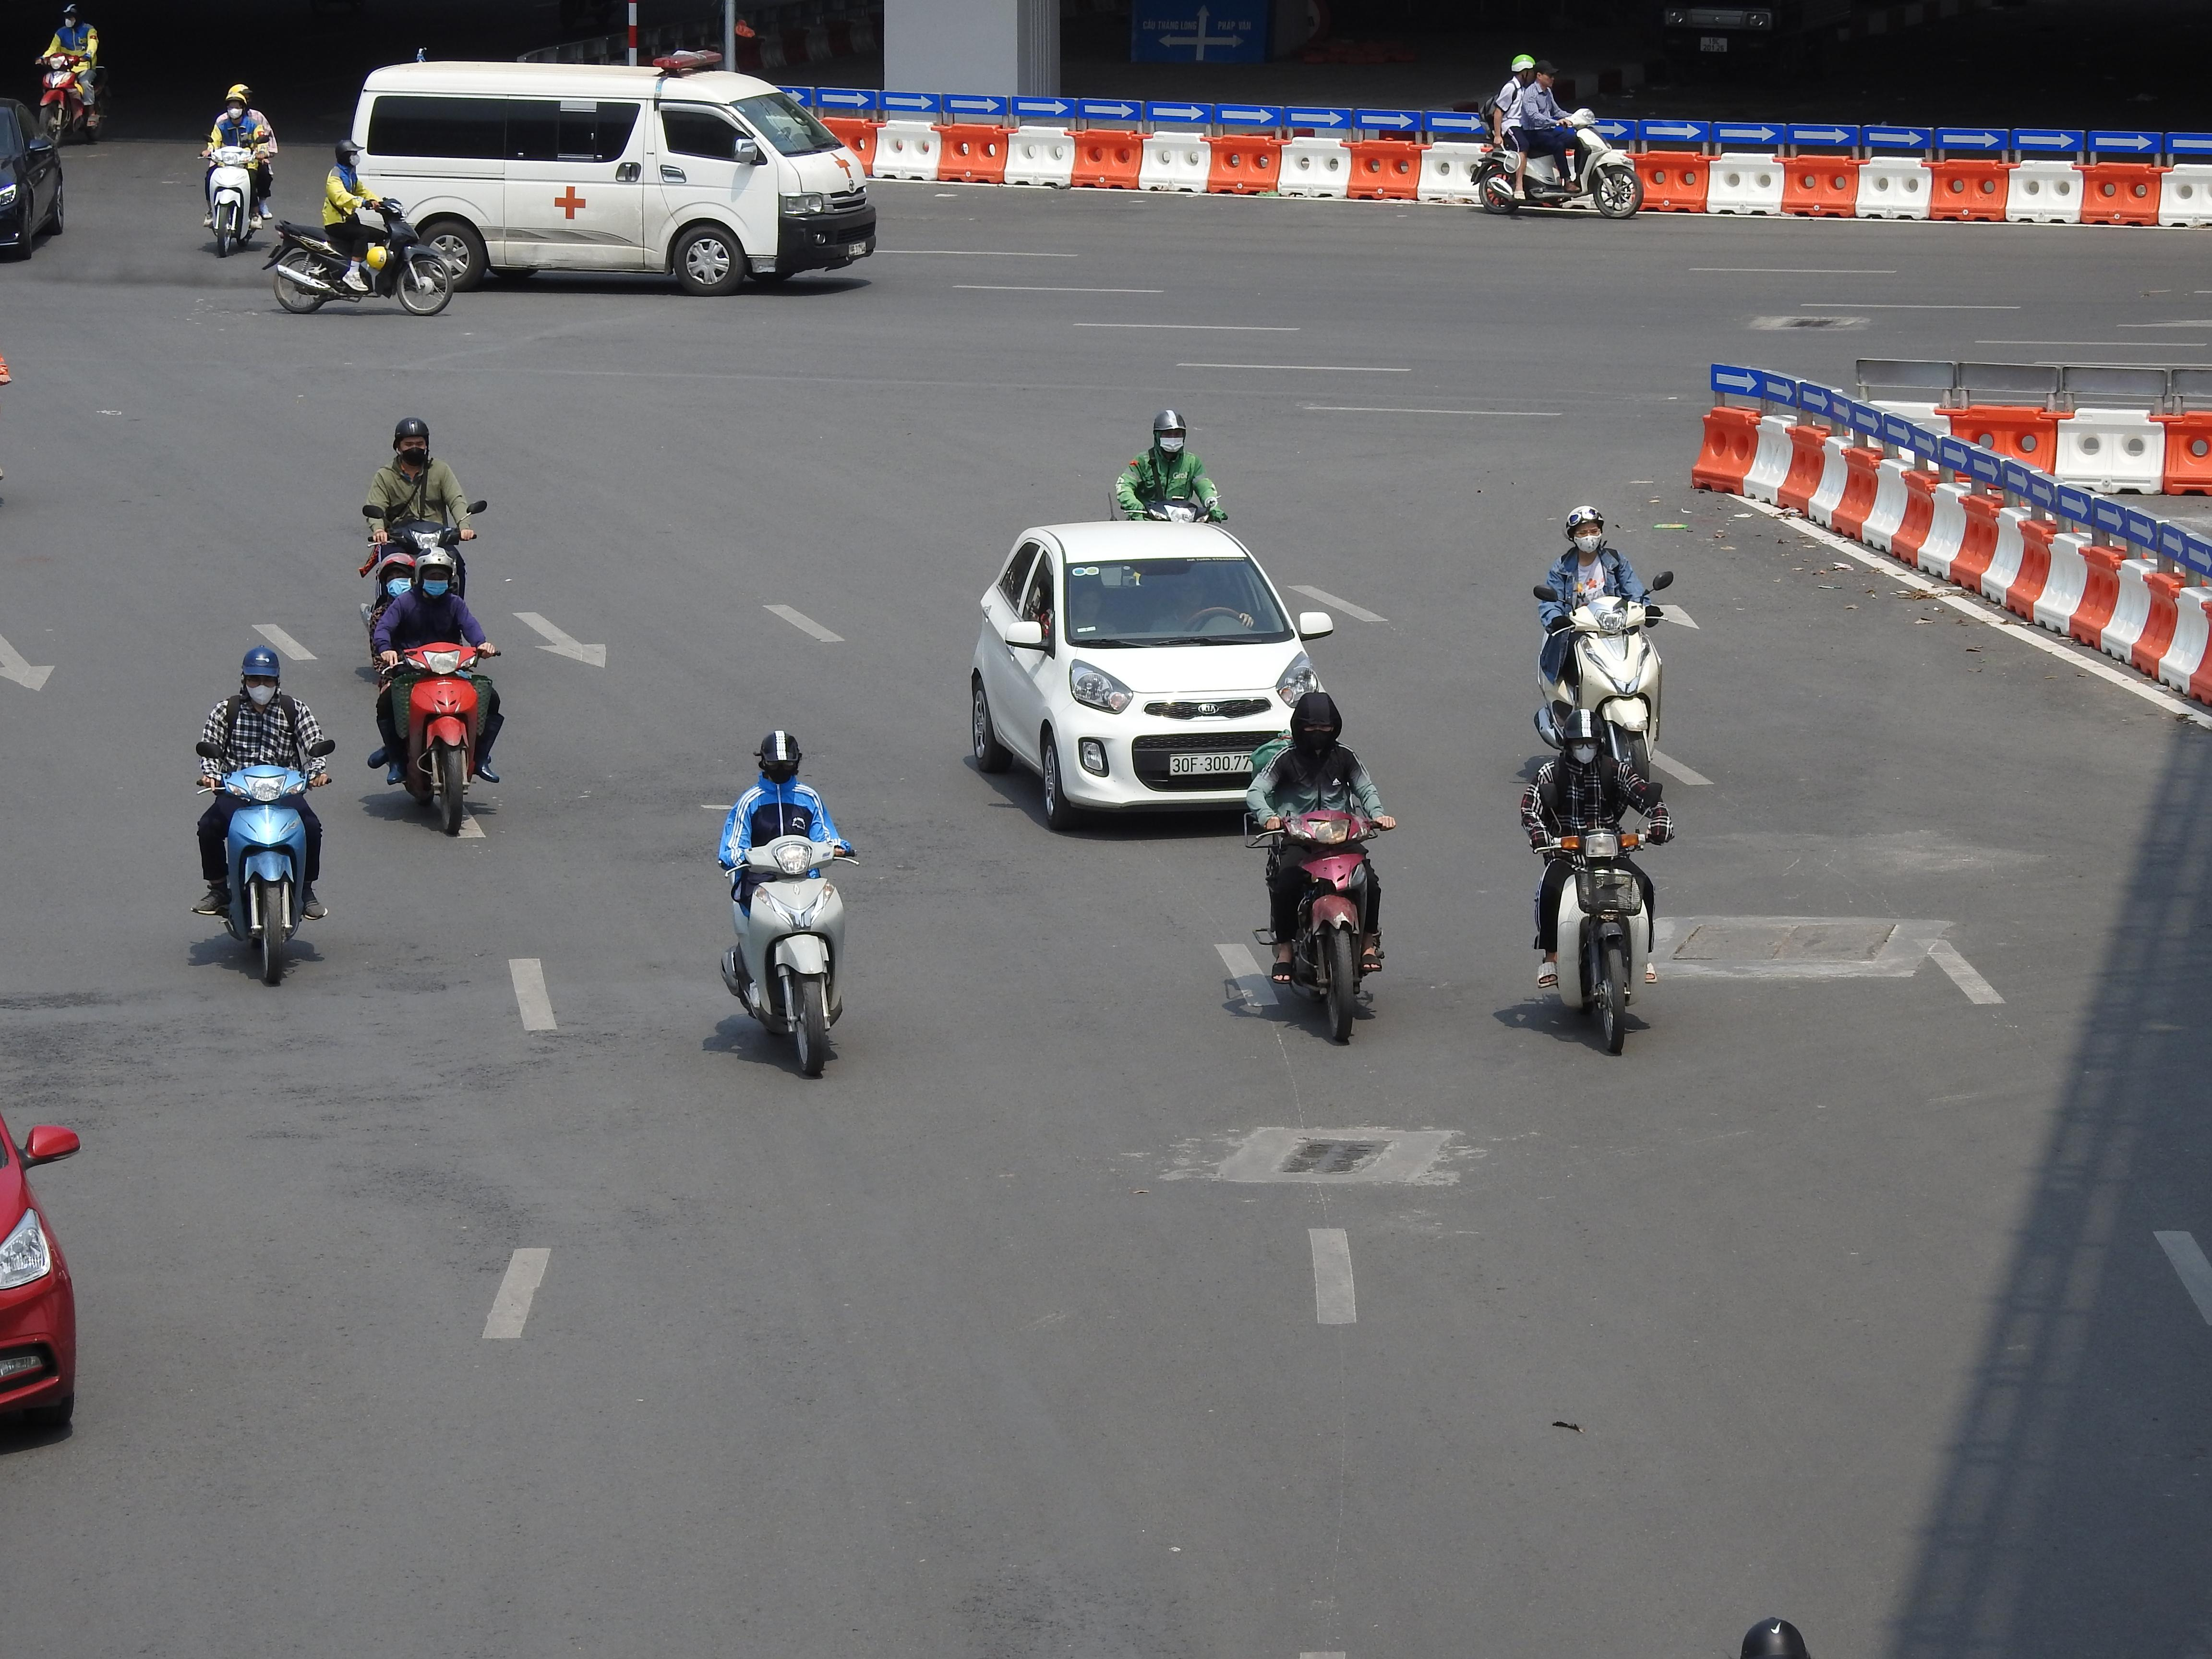BSD: (1170, 753, 1251, 774)
car: (341, 59, 880, 298), (965, 516, 1336, 833), (0, 92, 64, 263)
motorbike: (1521, 697, 1667, 1060), (1249, 687, 1393, 1047), (193, 643, 334, 988), (718, 728, 855, 1079), (368, 549, 503, 838), (1533, 504, 1670, 786), (265, 146, 451, 317), (1468, 56, 1642, 220), (361, 415, 484, 627), (200, 84, 275, 258), (35, 3, 106, 145)
